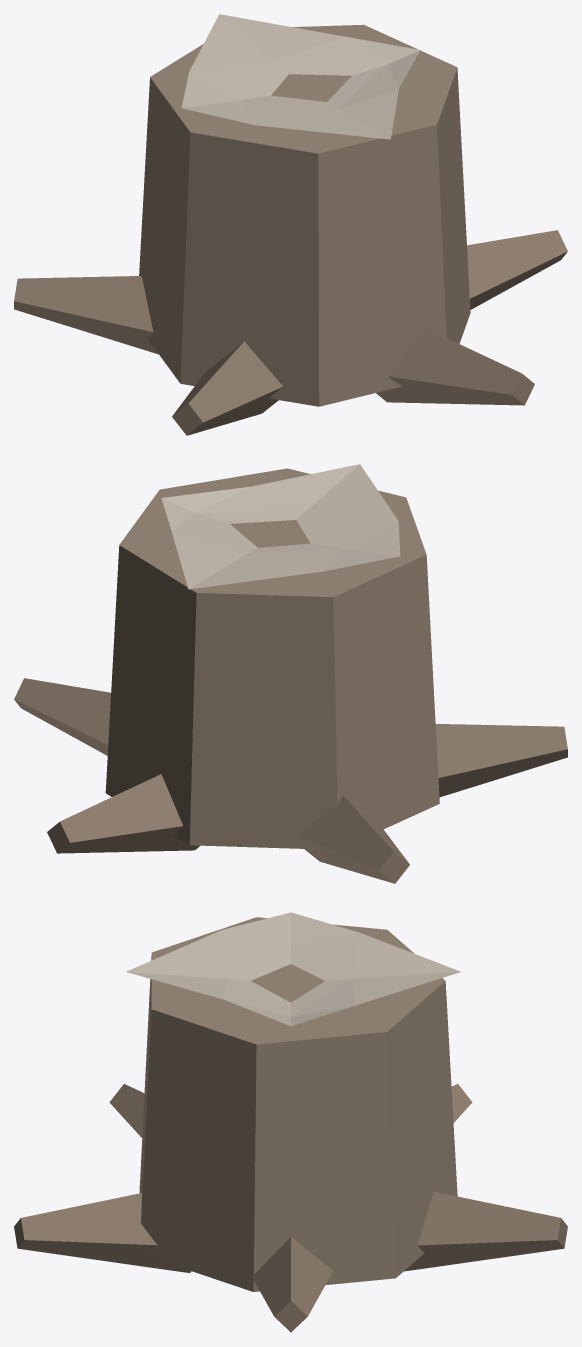
Rendered from stump_v26.glb.
3 renders of one model, top to bottom at view 1: azimuth 30°, elevation 25°; view 2: azimuth 150°, elevation 25°; view 3: azimuth 270°, elevation 25°, orthographic. The views are drawn at different scales.
Visible parts, largest first — view 1: lod0; view 2: lod0; view 3: lod0.
Part boxes in pixels (left/top/right/bottom): lod0: left=14, top=14, right=567, bottom=435; lod0: left=14, top=464, right=567, bottom=883; lod0: left=14, top=912, right=567, bottom=1332.
Size of what is drawn, in the model's own units: 1.07 by 0.6693 by 1.12.
